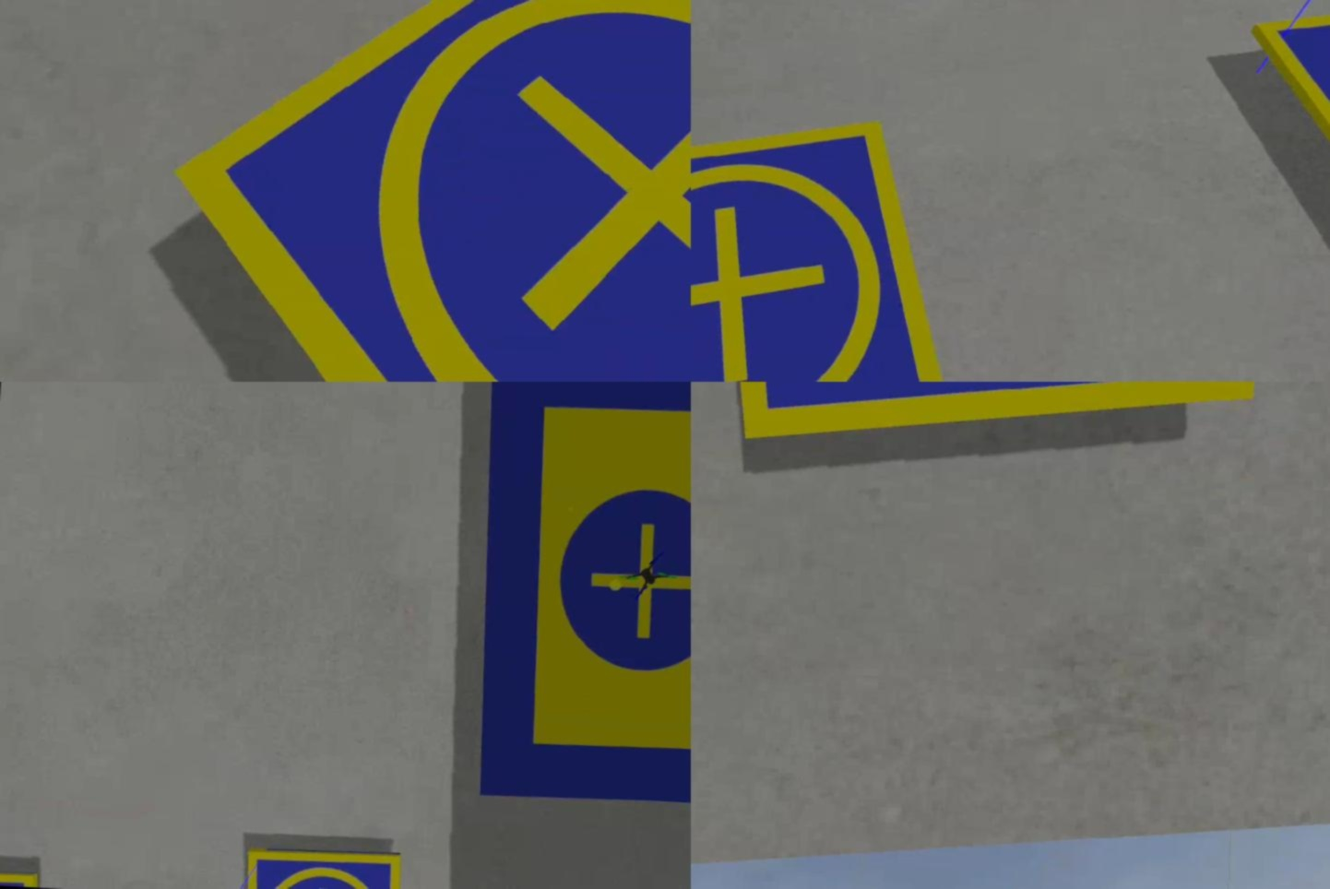large_base: (470, 382, 692, 816)
small_base: (159, 1, 692, 382), (692, 106, 977, 382), (692, 382, 1275, 472), (1241, 1, 1330, 277), (243, 846, 405, 889)
